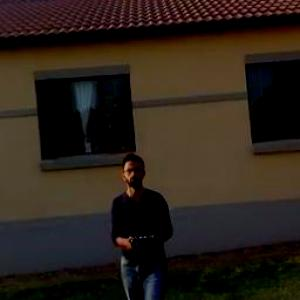follow: (109, 148, 180, 298)
